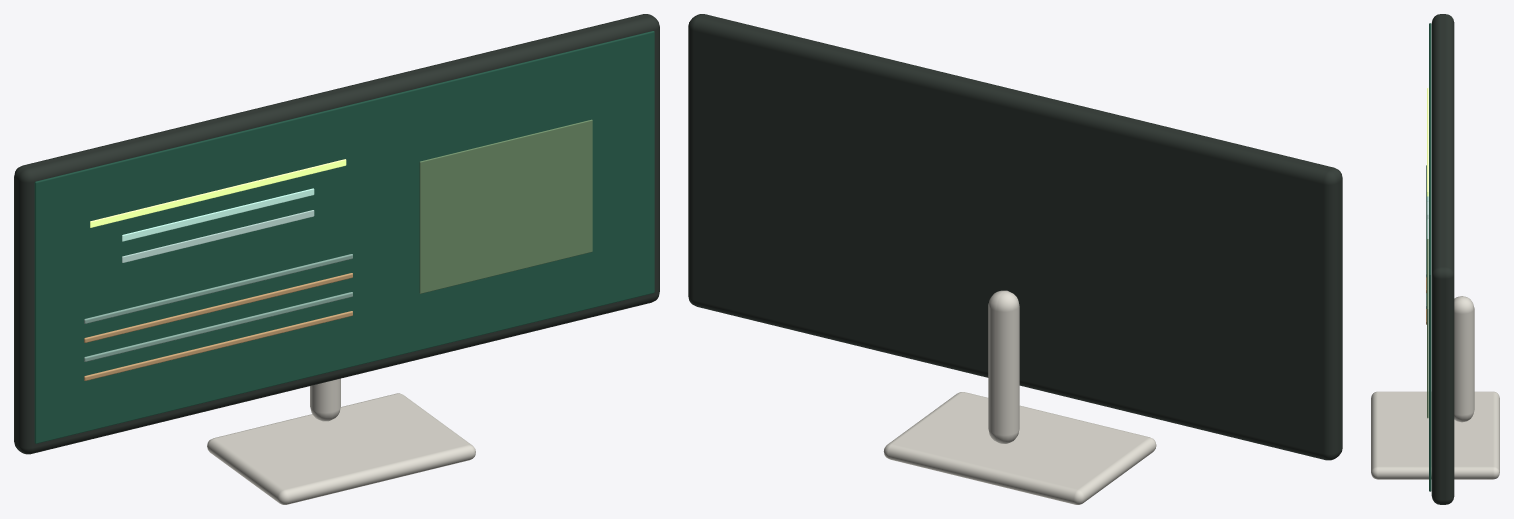
Rendered from monitor-34.glb.
3 renders of one model, left to right at view 1: azimuth 30°, elevation 25°; view 2: azimuth 150°, elevation 25°; view 3: azimuth 270°, elevation 25°, orthographic. The views are drawn at different scales.
Parts seen in each view (by area): view 1: monitor-34; view 2: monitor-34; view 3: monitor-34.
Part boxes in pixels (x1,y1,x2,y2): monitor-34: (14, 14, 659, 504); monitor-34: (688, 14, 1342, 504); monitor-34: (1371, 14, 1499, 504).
Size of the model in its own units: 0.81 by 0.4375 by 0.17.
